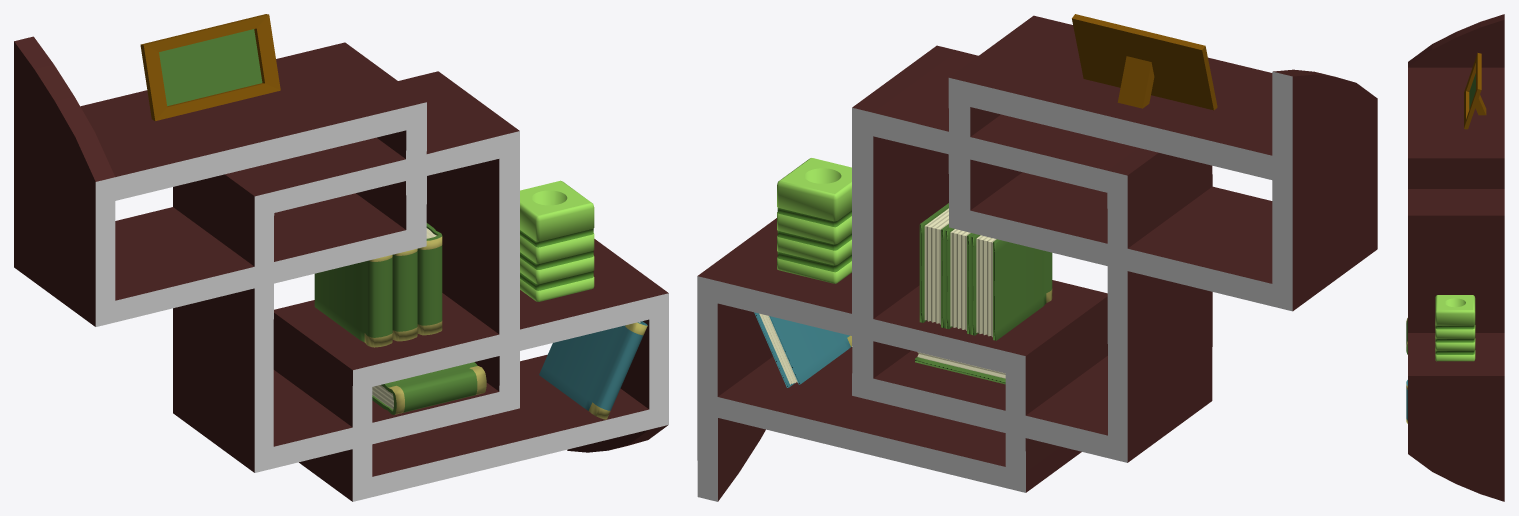
File: shelves_tier14.fbx
3 views of the same model, side by side, from view 1: azimuth 30°, elevation 25°; view 2: azimuth 150°, elevation 25°; view 3: azimuth 270°, elevation 25° (orthographic). The views are drawn at different scales.
Visible parts, largest first — view 1: Cube.007, Cube.014, Cube, Cube.003, Cube.002, Cube.001, Cube.005, Cube.004; view 2: Cube.007, Cube.014, Cube, Cube.002, Cube.003, Cube.005, Cube.004, Cube.001; view 3: Cube.007, Cube, Cube.014.
Part boxes in pixels (<box>): Cube.007: <box>14,36,668,501</box>; Cube.014: <box>140,14,280,121</box>; Cube: <box>520,180,594,301</box>; Cube.003: <box>539,321,647,419</box>; Cube.002: <box>314,255,392,347</box>; Cube.001: <box>372,362,486,414</box>; Cube.005: <box>417,223,442,335</box>; Cube.004: <box>392,248,417,341</box>; Cube.007: <box>697,15,1377,501</box>; Cube.014: <box>1072,14,1217,110</box>; Cube: <box>777,158,851,283</box>; Cube.002: <box>971,234,1052,340</box>; Cube.003: <box>754,312,851,387</box>; Cube.005: <box>919,203,949,328</box>; Cube.004: <box>945,227,974,334</box>; Cube.001: <box>915,352,1005,384</box>; Cube.007: <box>1408,14,1504,501</box>; Cube: <box>1435,295,1475,361</box>; Cube.014: <box>1464,53,1486,129</box>.
Size of the model in its own units: 210 by 191 by 52.81.
